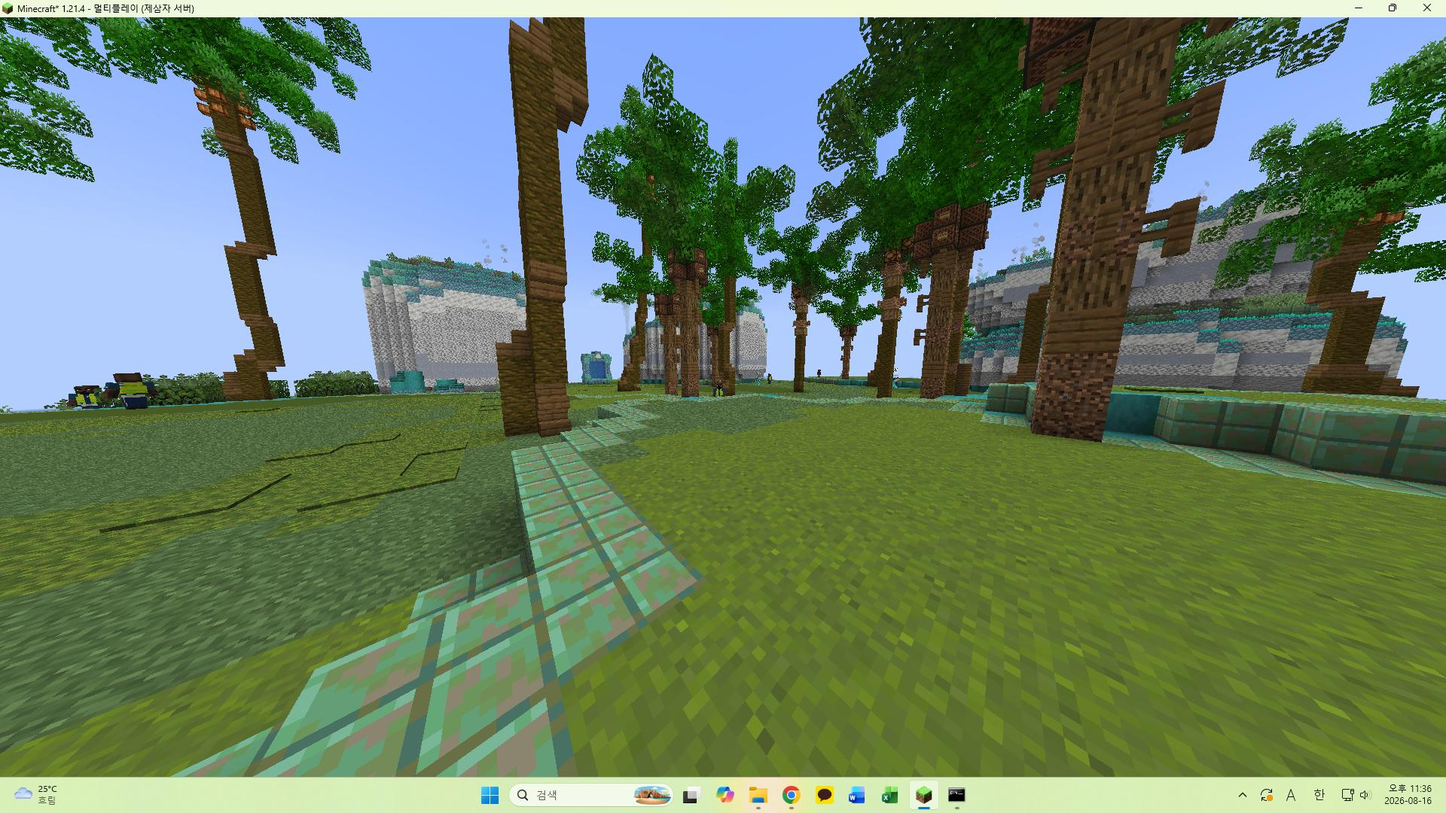Guardian: (710, 376, 730, 396)
